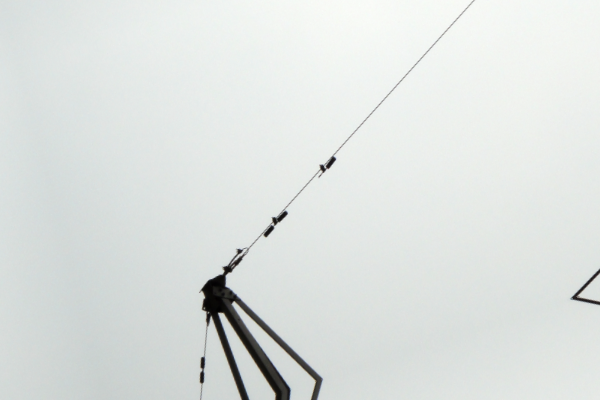damper: (261, 210, 289, 238), (198, 355, 207, 384)
damper_defect: (316, 155, 337, 180)
